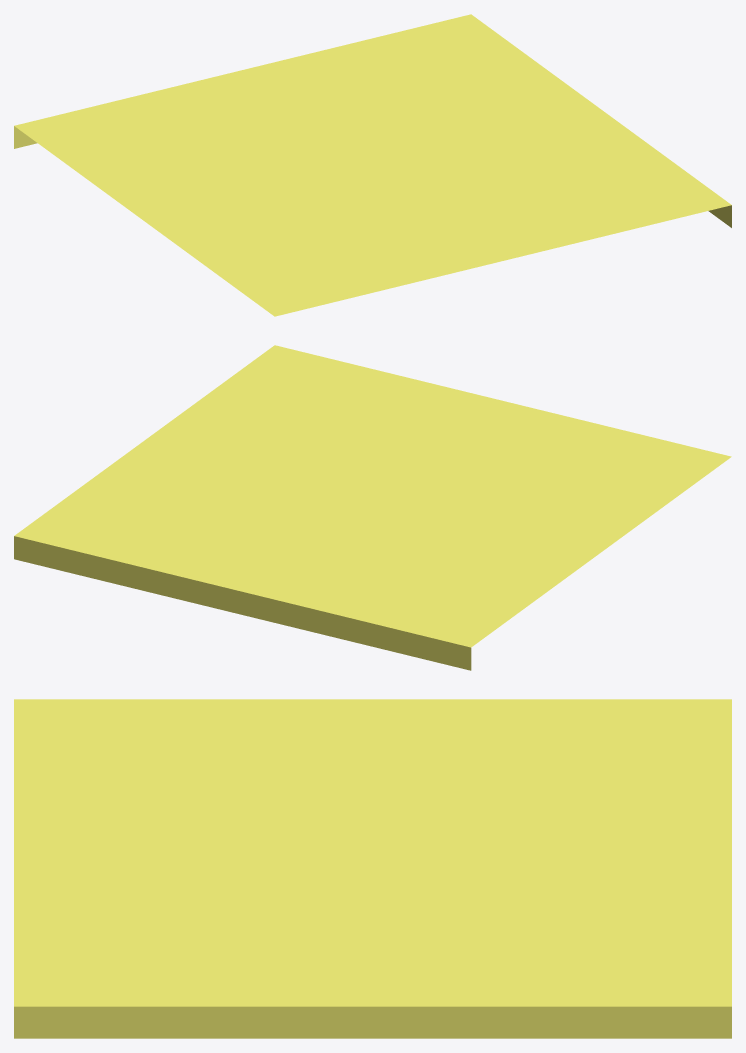
File: case30.gltf
3 renders of one model, top to bottom at view 1: azimuth 30°, elevation 25°; view 2: azimuth 150°, elevation 25°; view 3: azimuth 270°, elevation 25°, orthographic. The views are drawn at different scales.
Visible parts, largest first — view 1: a3; view 2: a3; view 3: a3.
Boxes of the visible parts, <box> form: a3: <box>14,14,731,316</box>; a3: <box>14,345,731,670</box>; a3: <box>14,699,731,1038</box>.
Size of the model in its own units: 0.5143 by 0.025 by 0.5081.
Materials: 1 (1 with a texture image).
